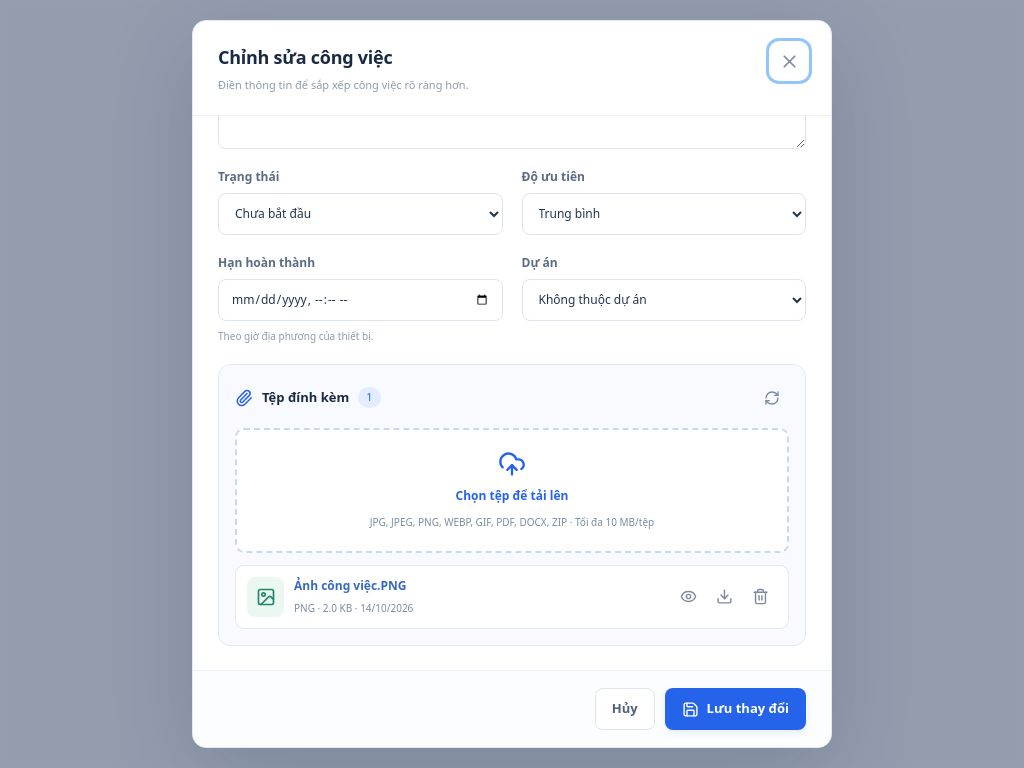
Test: Task attachment management › keeps TaskForm open through nested preview and confirmation, without submitting Task
(page scrolled)
Click the button named "Xem Ảnh công việc.PNG" at (688, 597), box [671,580,705,614]
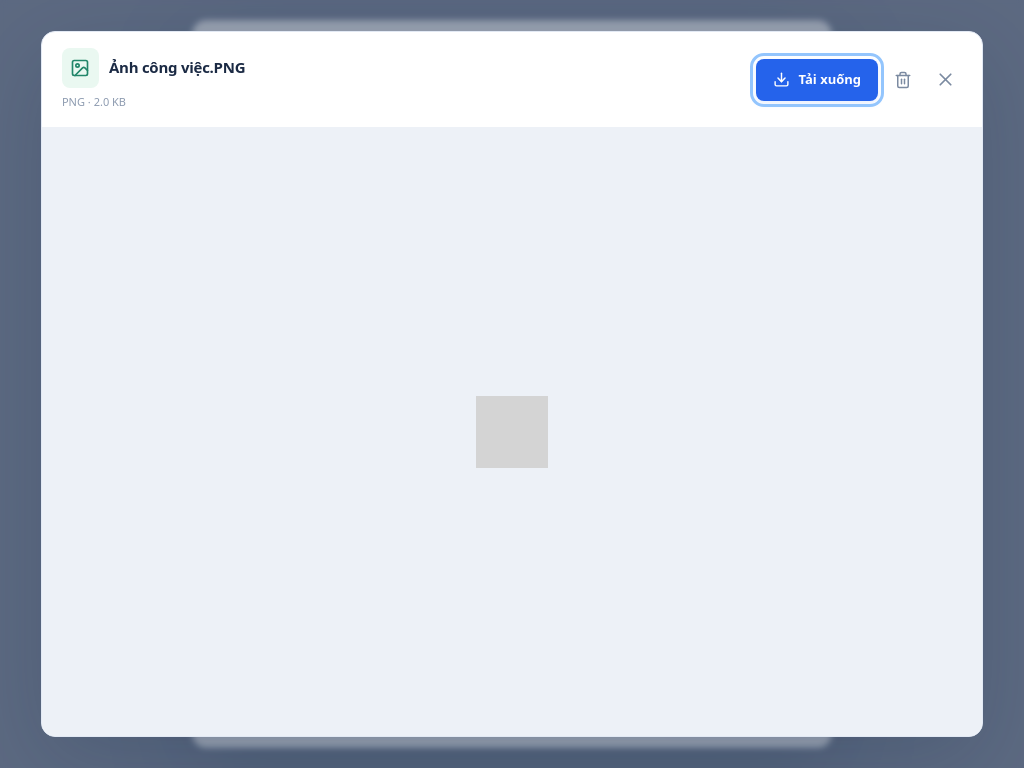
Check: the number of dialogs is 2, box [192,20,832,748]; [41,31,983,737]
Click the button named "Đóng cửa sổ" at (945, 80), box [928,63,962,97]
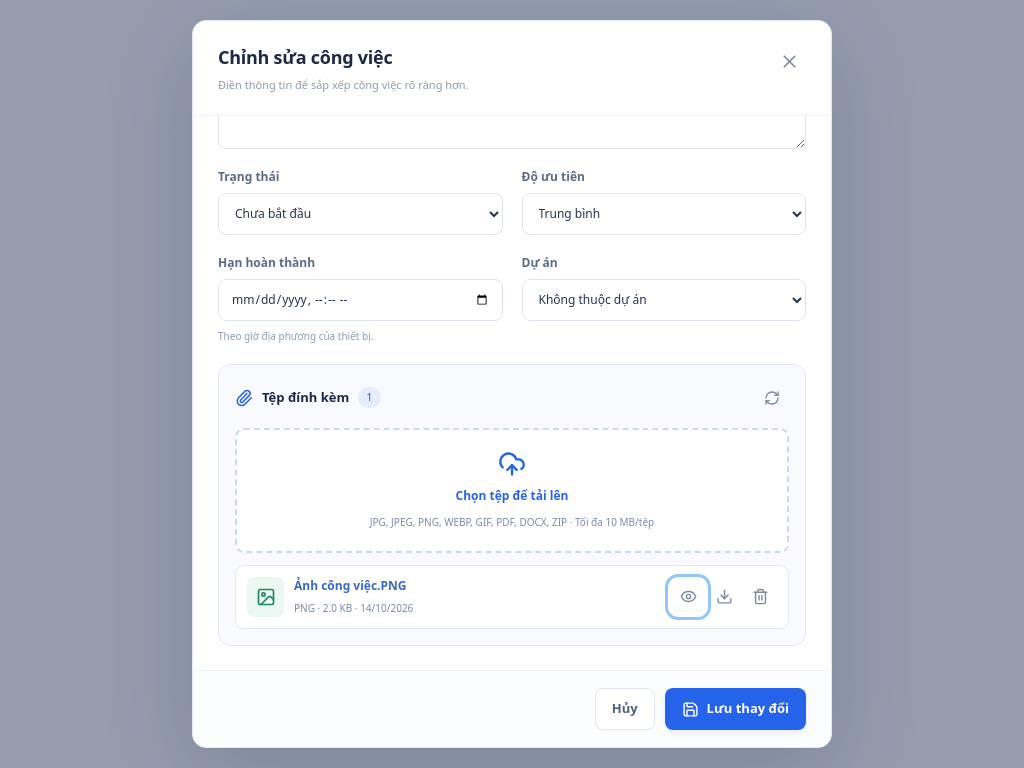
Click the button named "Xóa Ảnh công việc.PNG" at (760, 597), box [743,580,777,614]
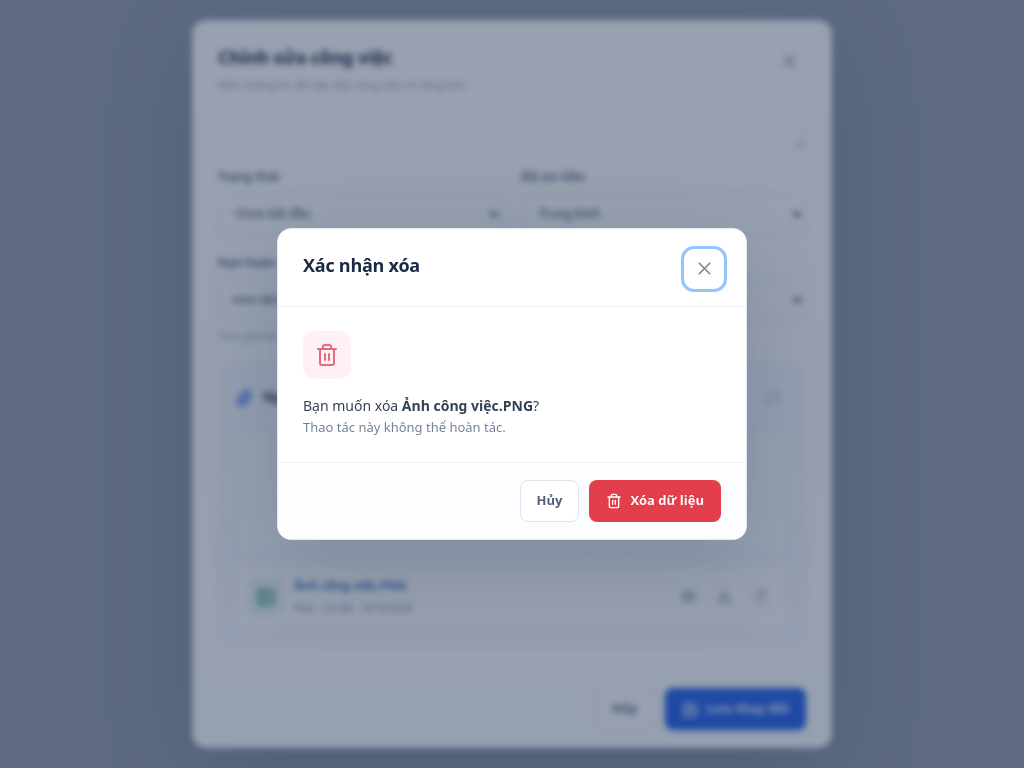
Click the button "Xóa dữ liệu" at (655, 501), box [589,480,721,522]
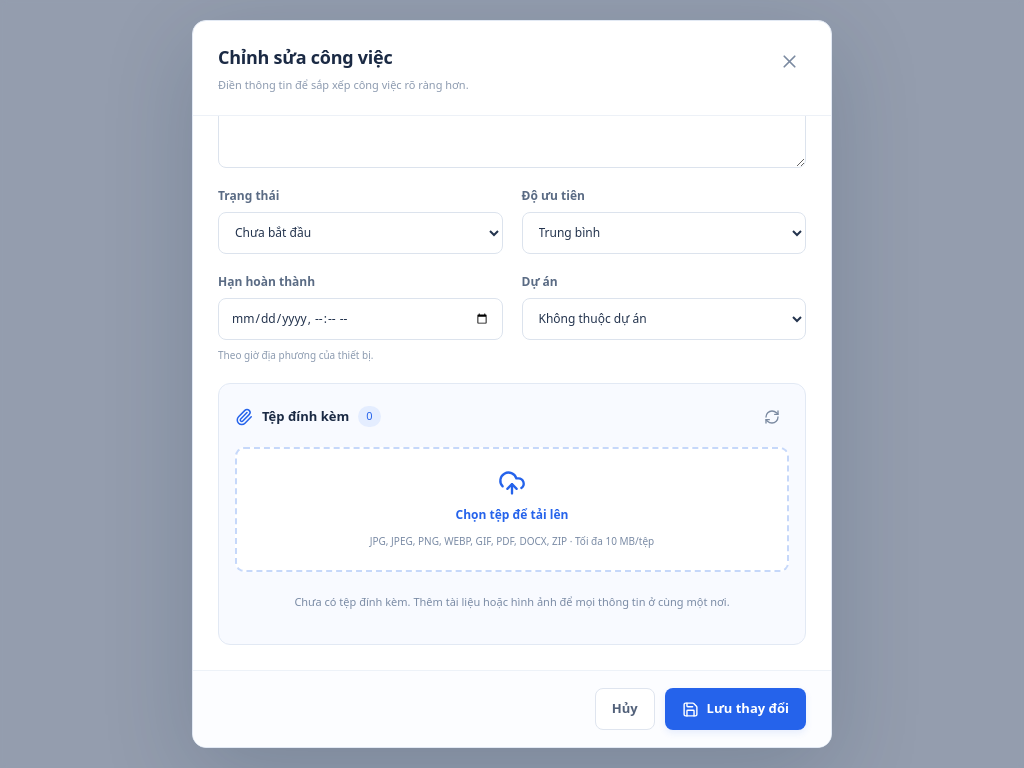
Check: the number of dialogs is 1, box [192,20,832,748]
